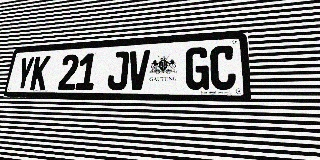1: (75, 53, 98, 90)
2: (58, 54, 80, 90)
C: (210, 45, 236, 90)
G: (185, 47, 209, 90)
J: (106, 51, 130, 90)
K: (29, 56, 51, 90)
V: (127, 50, 150, 90)
Y: (14, 56, 35, 90)
